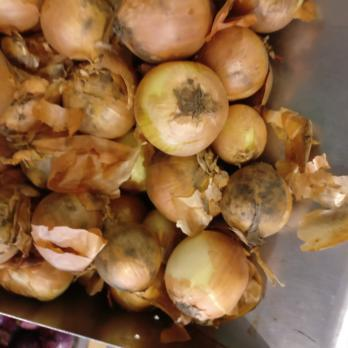Onion: (1, 0, 293, 311)
